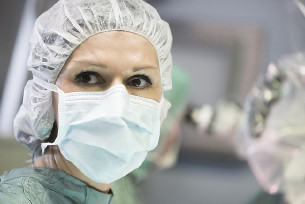face_mask: (57, 33, 160, 178)
